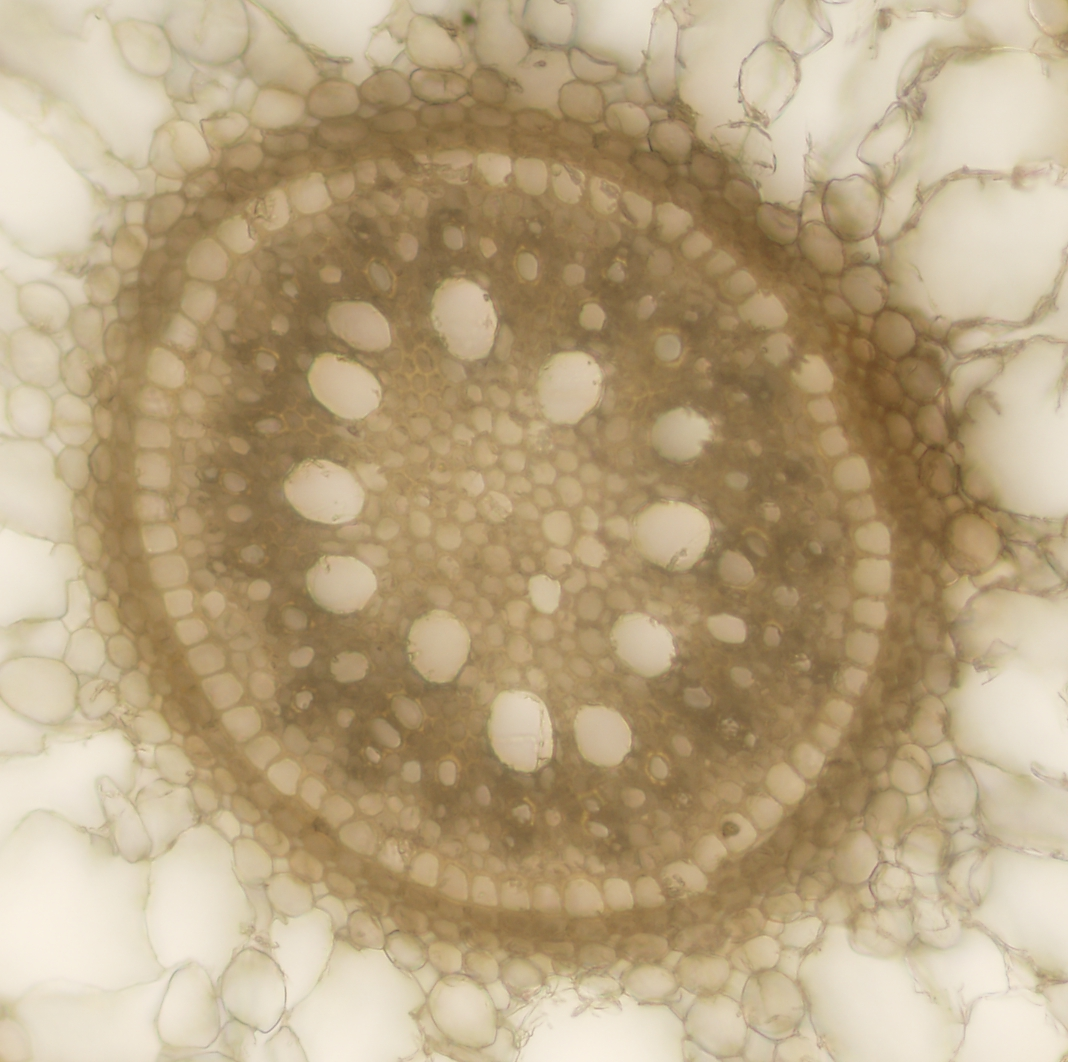lm: (629, 499, 713, 572), (429, 274, 499, 361), (282, 455, 367, 524), (487, 689, 554, 772), (533, 349, 603, 425), (309, 351, 384, 421), (406, 607, 472, 685), (303, 552, 377, 615), (610, 609, 677, 677), (572, 702, 634, 768), (649, 407, 714, 464), (324, 298, 392, 351)
